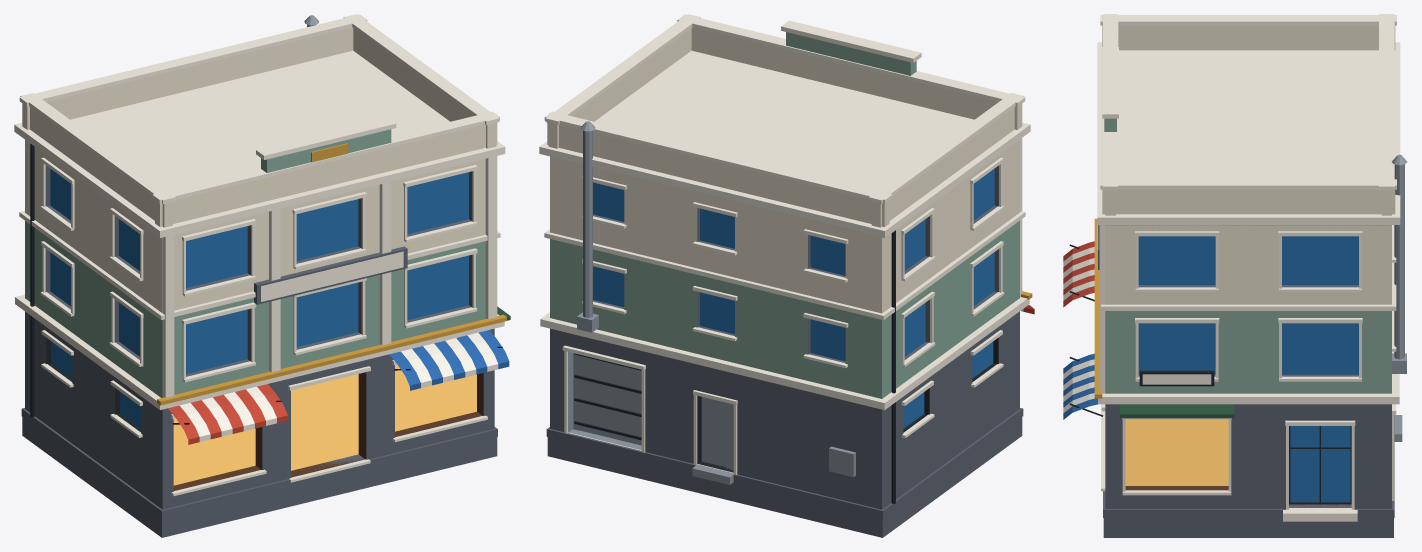
File: 04_commercial-lod1.glb
3 renders of one model, left to right at view 1: azimuth 30°, elevation 25°; view 2: azimuth 150°, elevation 25°; view 3: azimuth 270°, elevation 25°, orthographic. The views are drawn at different scales.
Parts seen in each view (by area): view 1: EdificioComercial_LOD1; view 2: EdificioComercial_LOD1; view 3: EdificioComercial_LOD1.
Part boxes in pixels (x1,y1,x2,y2): EdificioComercial_LOD1: (14,14,510,537); EdificioComercial_LOD1: (539,14,1034,537); EdificioComercial_LOD1: (1063,14,1407,537).
Size of the model in its own units: 13.96 by 13.18 by 11.05.
Materials: 2 (2 with a texture image).
